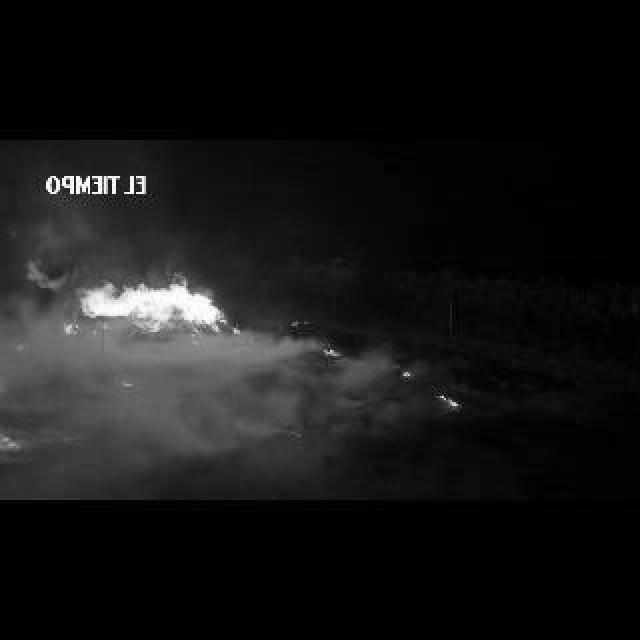Fire: (26, 258, 232, 334), (2, 434, 22, 452), (436, 394, 458, 406), (322, 348, 340, 356), (292, 318, 300, 326), (404, 370, 412, 376), (234, 328, 240, 334)
